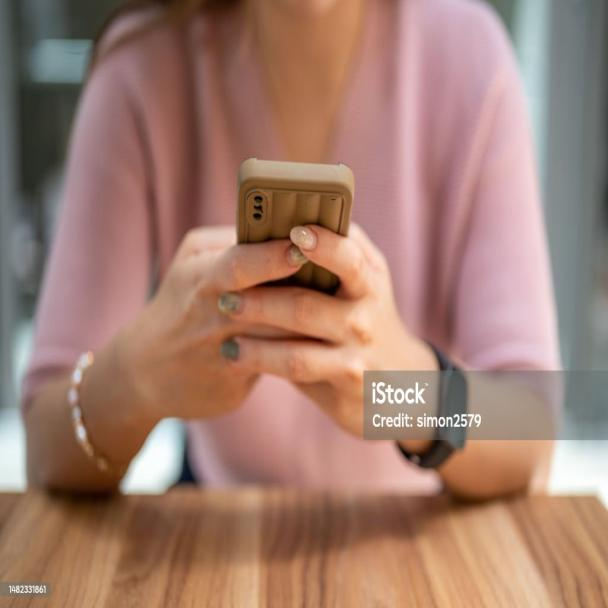Handphone: (232, 161, 356, 370)
Jam: (432, 358, 474, 456)
